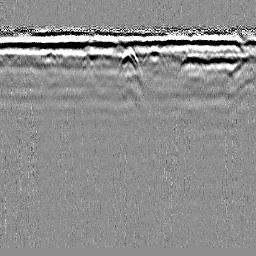cavity: (116, 45, 142, 76)
